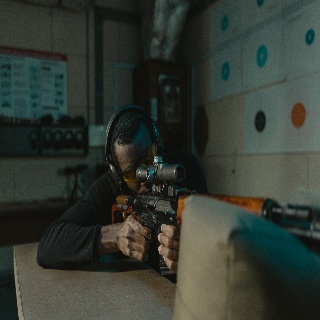rifle: (110, 156, 320, 279)
